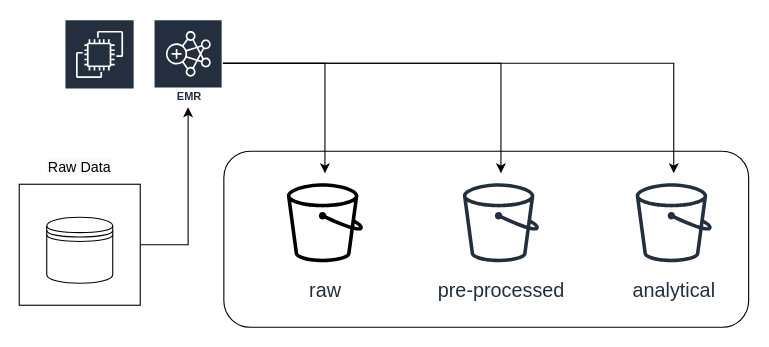
Image size: 769x347. Some labels were removed from this diagram. Each missing label, with the centre of its shape:
"Amazon EC2" goes at (99,62).
"CVM" goes at (79,249).
